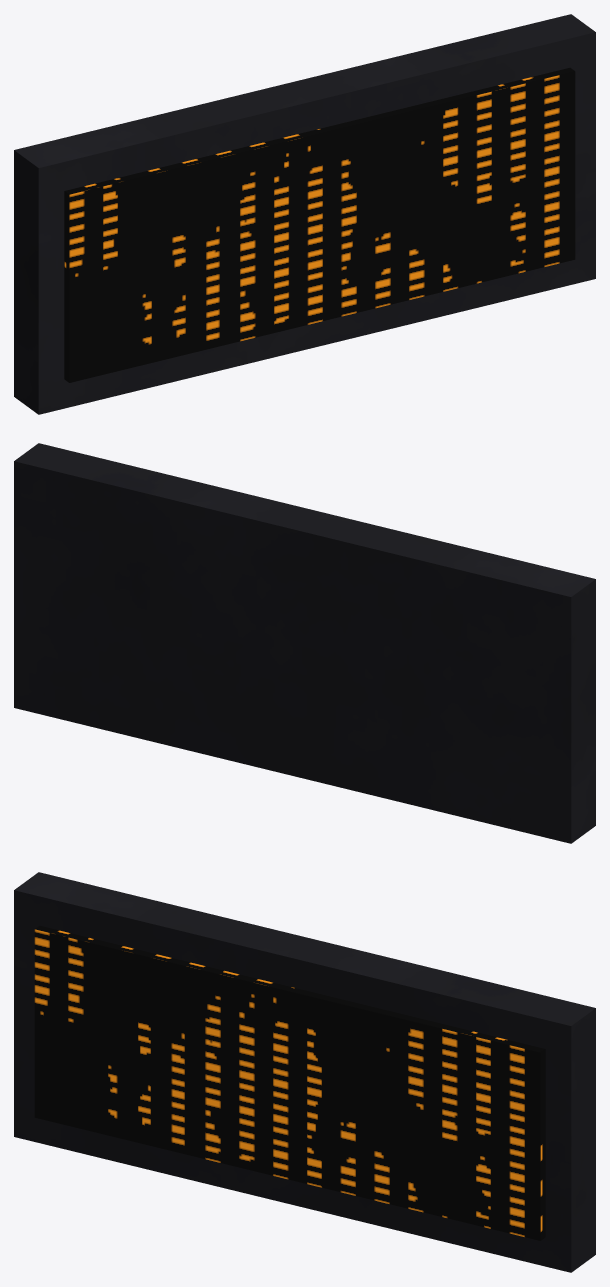
The model's file is departure_board.glb.
3 renders of one model, top to bottom at view 1: azimuth 30°, elevation 25°; view 2: azimuth 150°, elevation 25°; view 3: azimuth 330°, elevation 25°, orthographic.
Parts seen in each view (by area): view 1: Cube.001, Cube; view 2: Cube; view 3: Cube.001, Cube.
Boxes of the visible parts, x1,y1,x2,y2 form: Cube.001: [64, 67, 575, 382]; Cube: [14, 14, 595, 414]; Cube: [14, 443, 595, 843]; Cube.001: [34, 925, 545, 1240]; Cube: [14, 872, 595, 1272].
Size of the model in its own units: 1.3 by 0.55 by 0.12.
2 materials, 2 textured.
